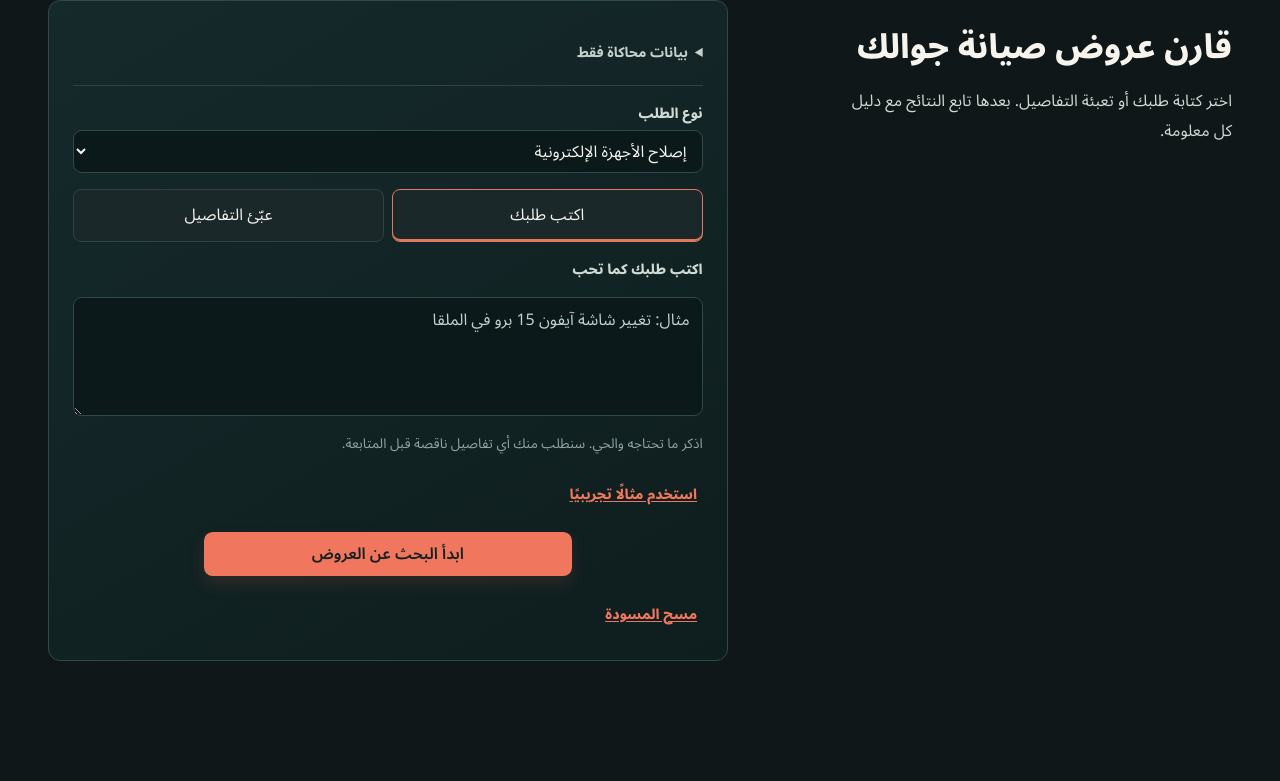
Test case: TaskRequestForm › preserves each input path but excludes stale details from written requests
Click the button "عبّئ التفاصيل": (228, 216) x1=73 y1=189 x2=384 y2=242
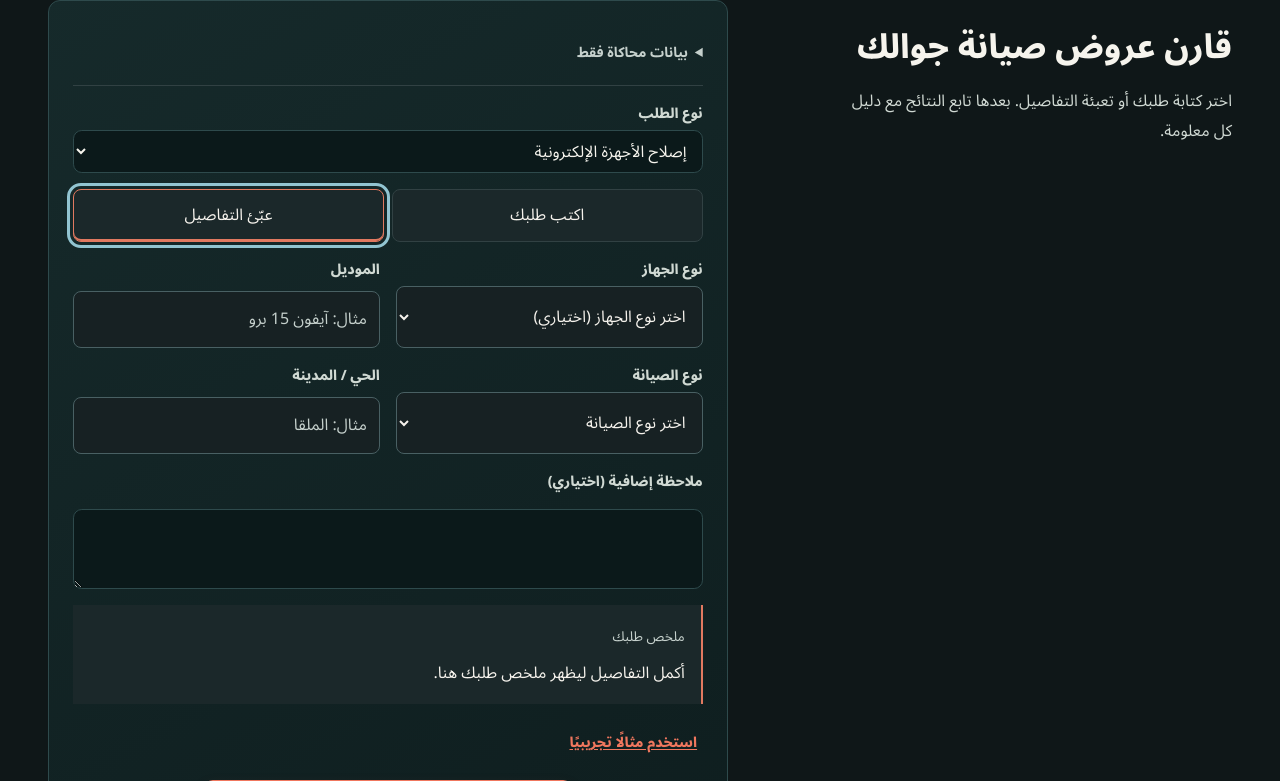
In the field labelled "الموديل": (226, 319) x1=73 y1=291 x2=380 y2=348, type "جهاز قديم"
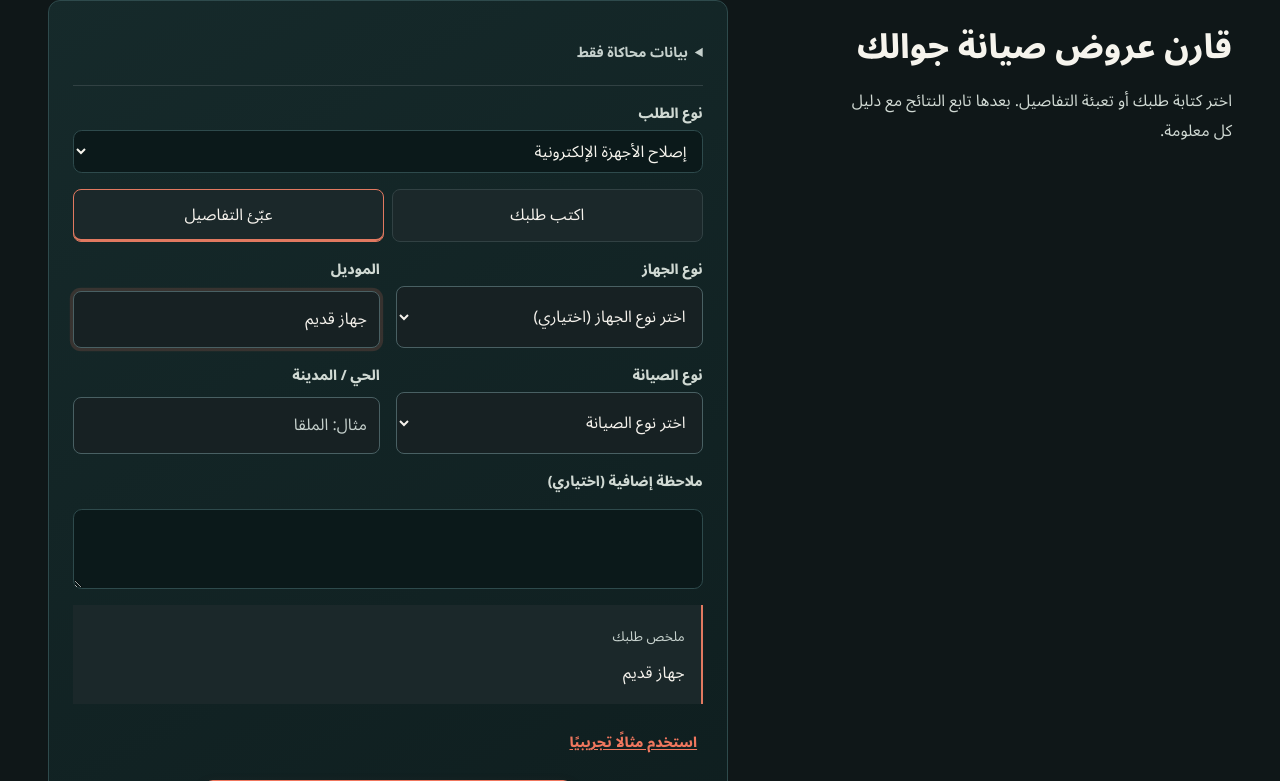
Click the button "اكتب طلبك": (547, 216) x1=392 y1=189 x2=703 y2=242
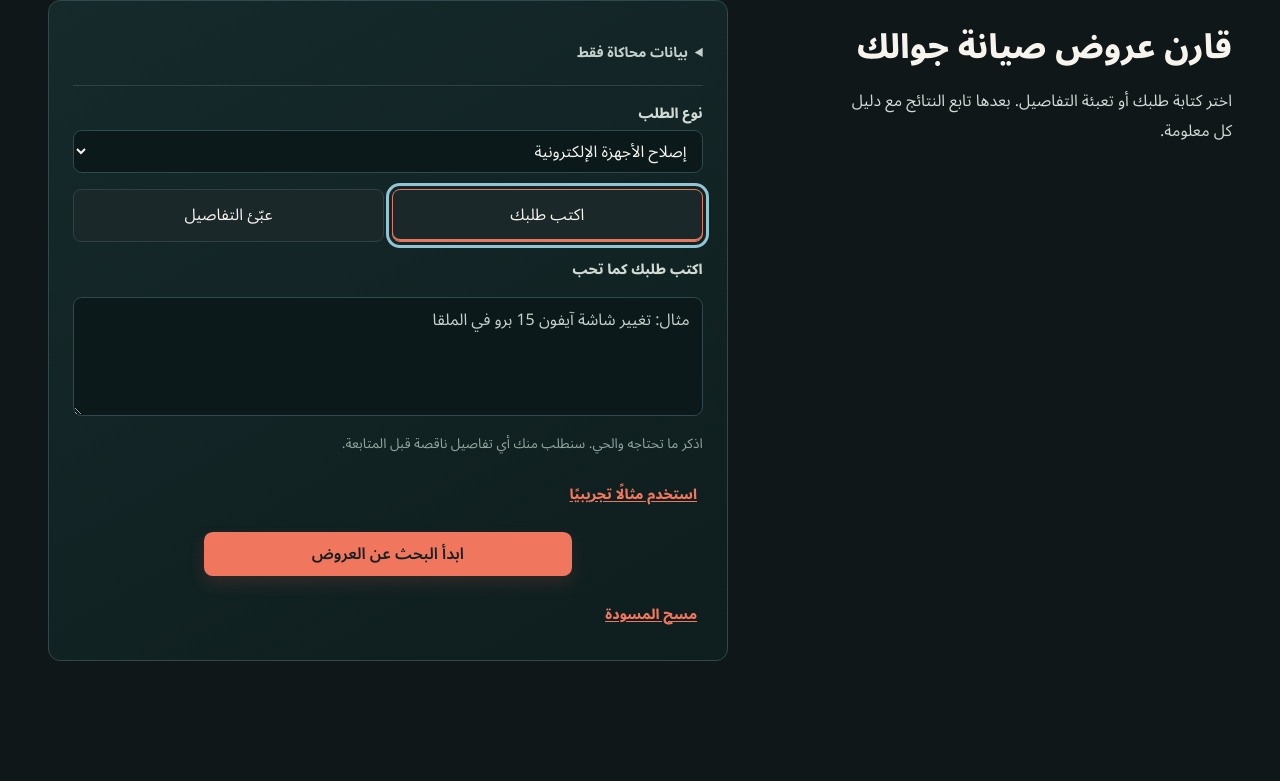
In the text box named "وش تبي تصلّح؟": (388, 356) x1=73 y1=297 x2=703 y2=416, type "تغيير بطارية جوالي في العليا"
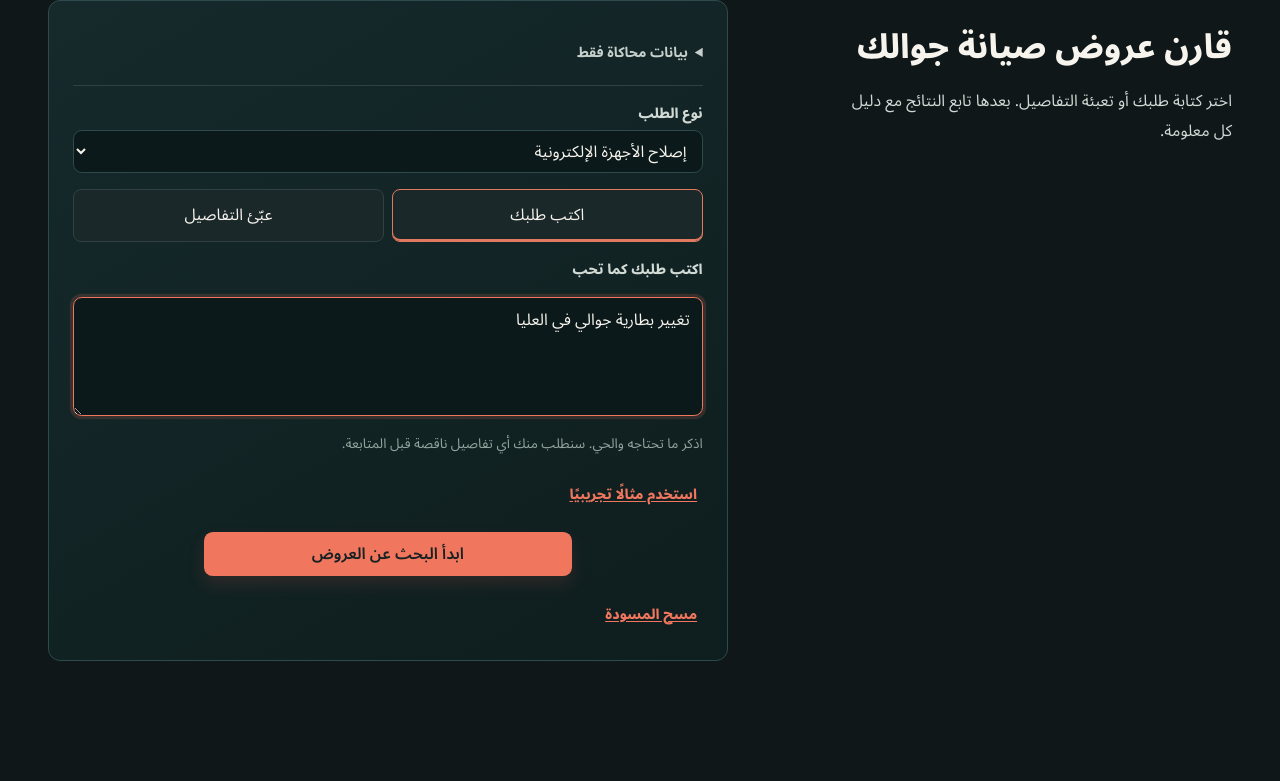
Click the button "ابدأ البحث عن العروض": (388, 554) x1=204 y1=532 x2=572 y2=576
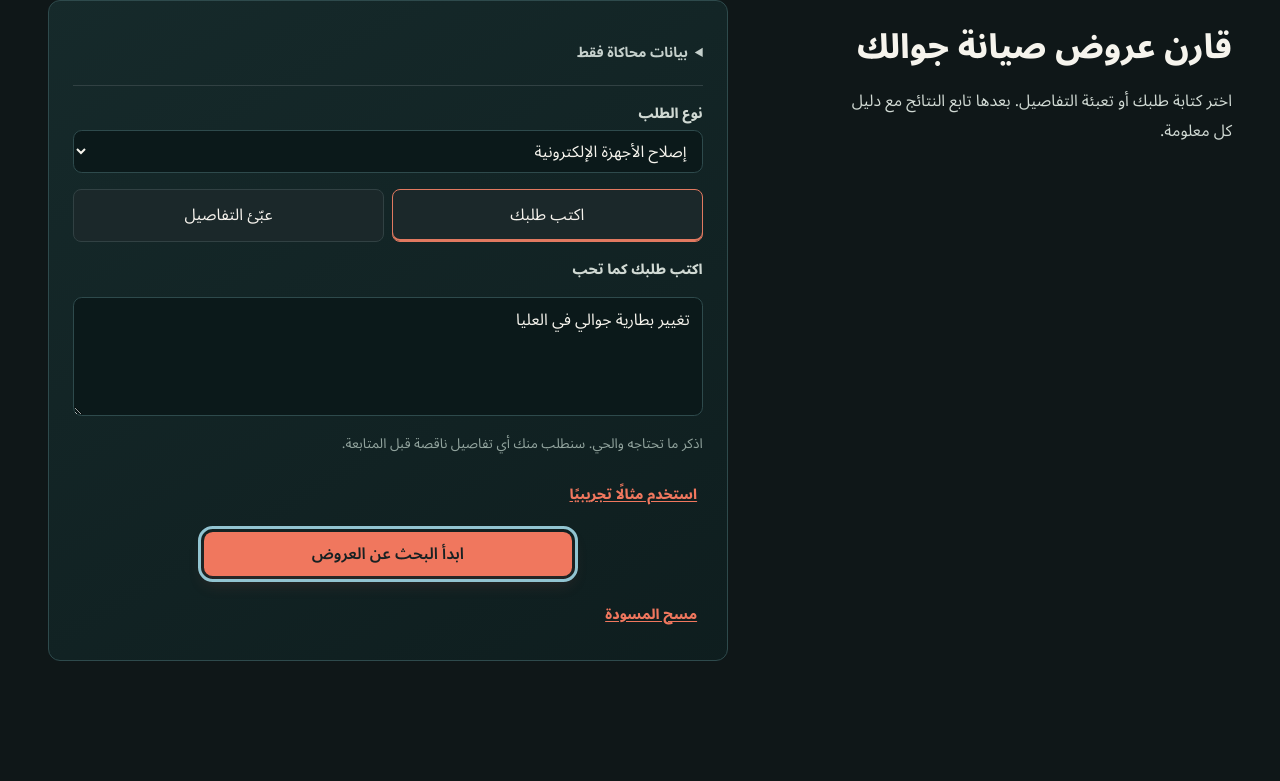
Click the button "عبّئ التفاصيل": (228, 216) x1=73 y1=189 x2=384 y2=242
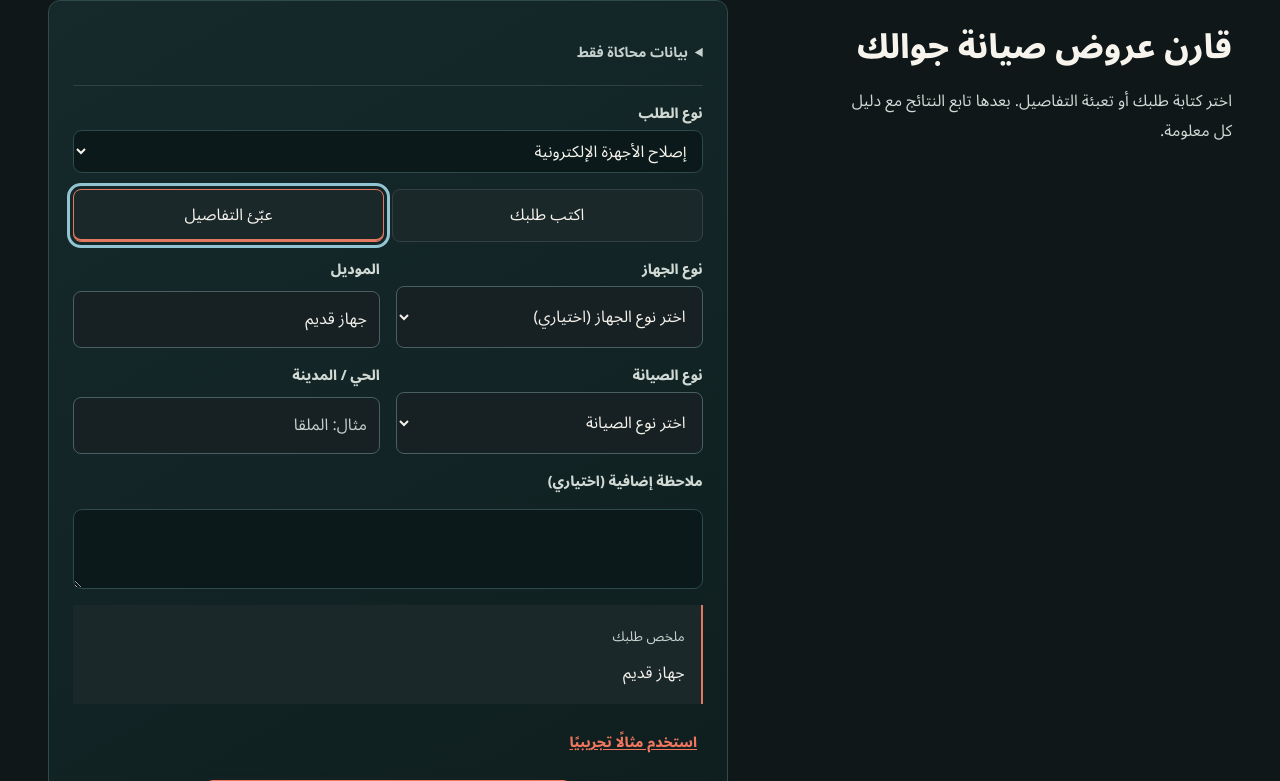
Result: the field labelled "الموديل" holds "جهاز قديم" at x1=73 y1=291 x2=380 y2=348
